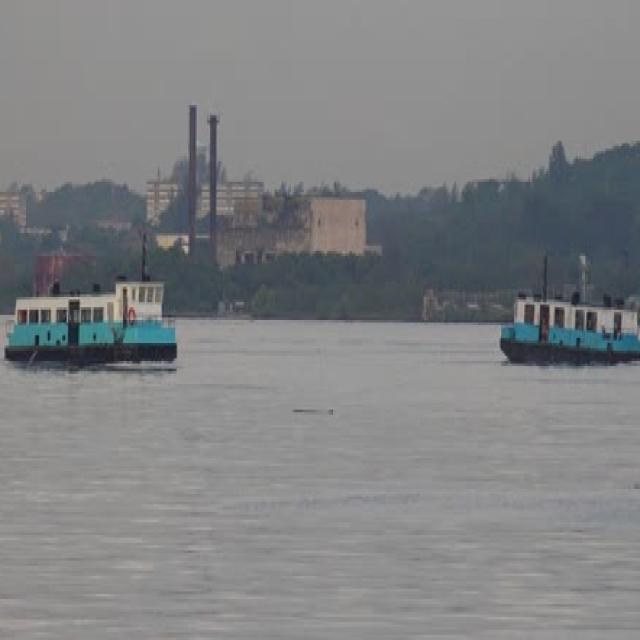fishing boat: (6, 261, 181, 360), (498, 274, 640, 361)
